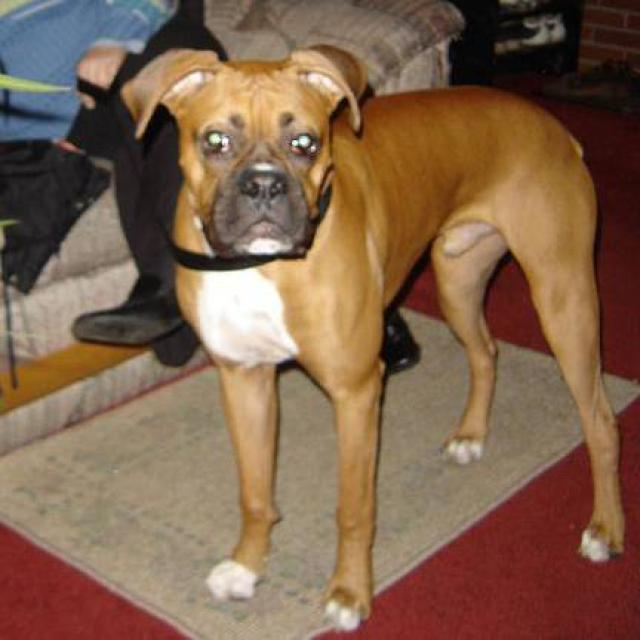dog: (119, 41, 628, 633)
